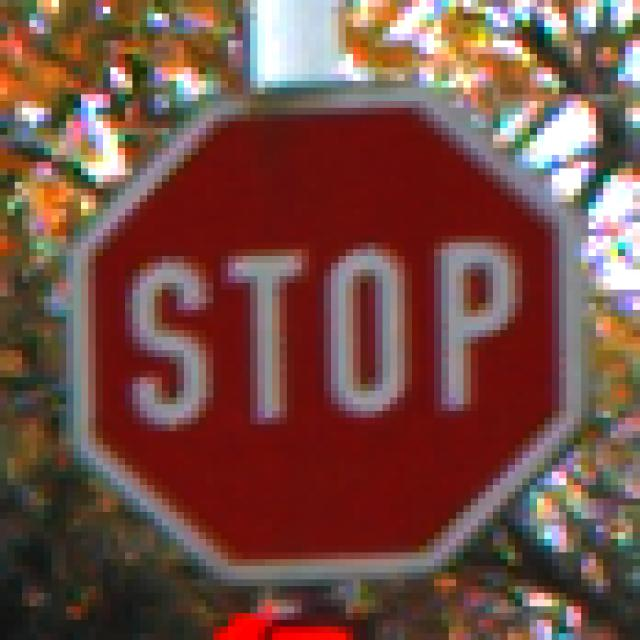STOP: (60, 62, 582, 580)
